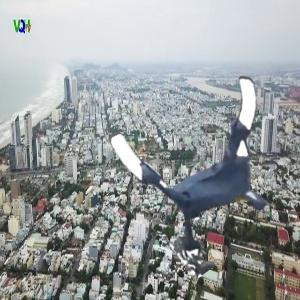drone: (128, 79, 297, 248)
